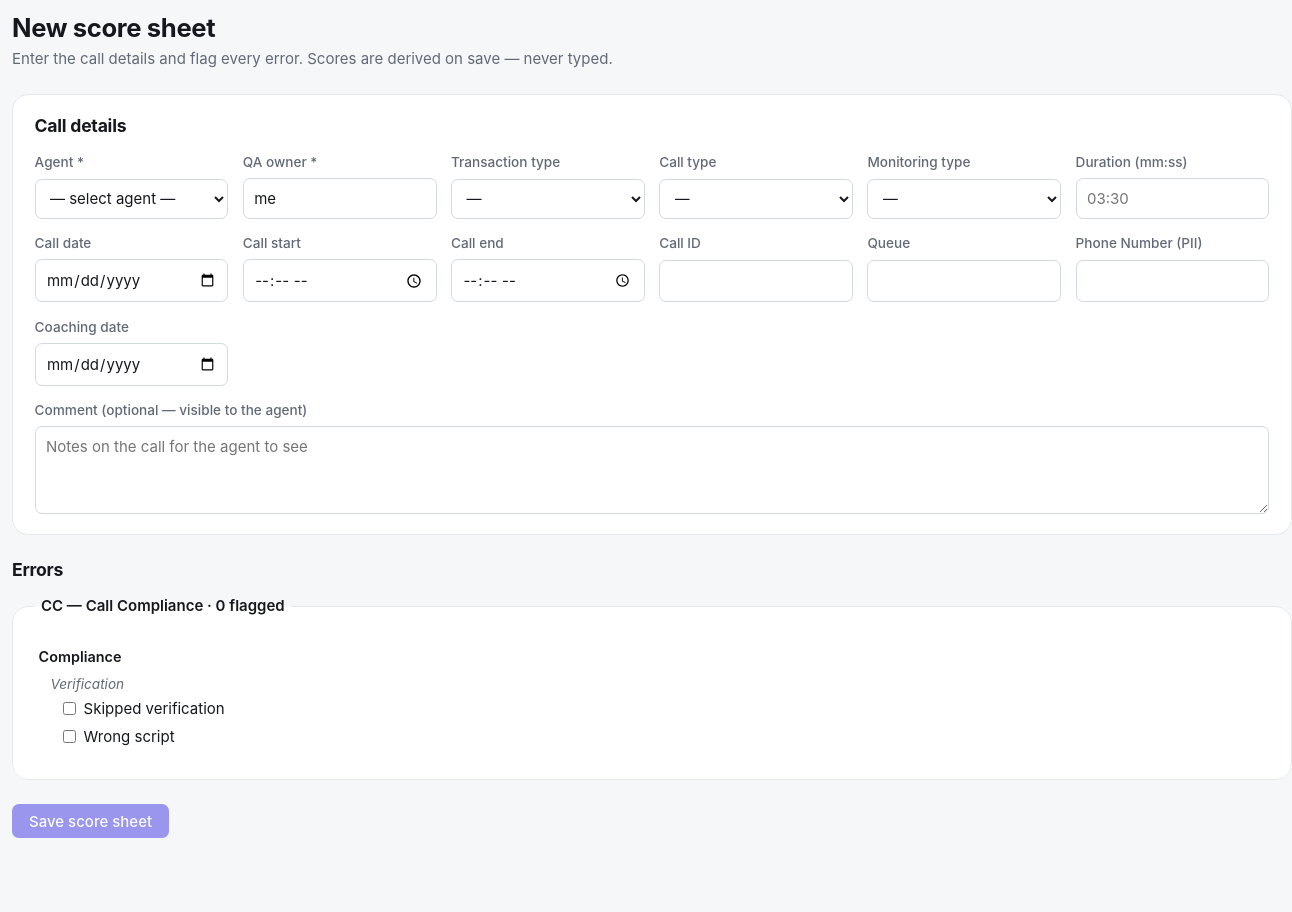
ScoreSheetForm (form → derivation boundary) › tracks the section flag count and submits only enter-only fields
Expected: the text with test id "section-1-count" reads "0", [216,596,226,616]
Click the checkbox named "reason-1000". click: (69, 709)
box: [63,702,76,715]
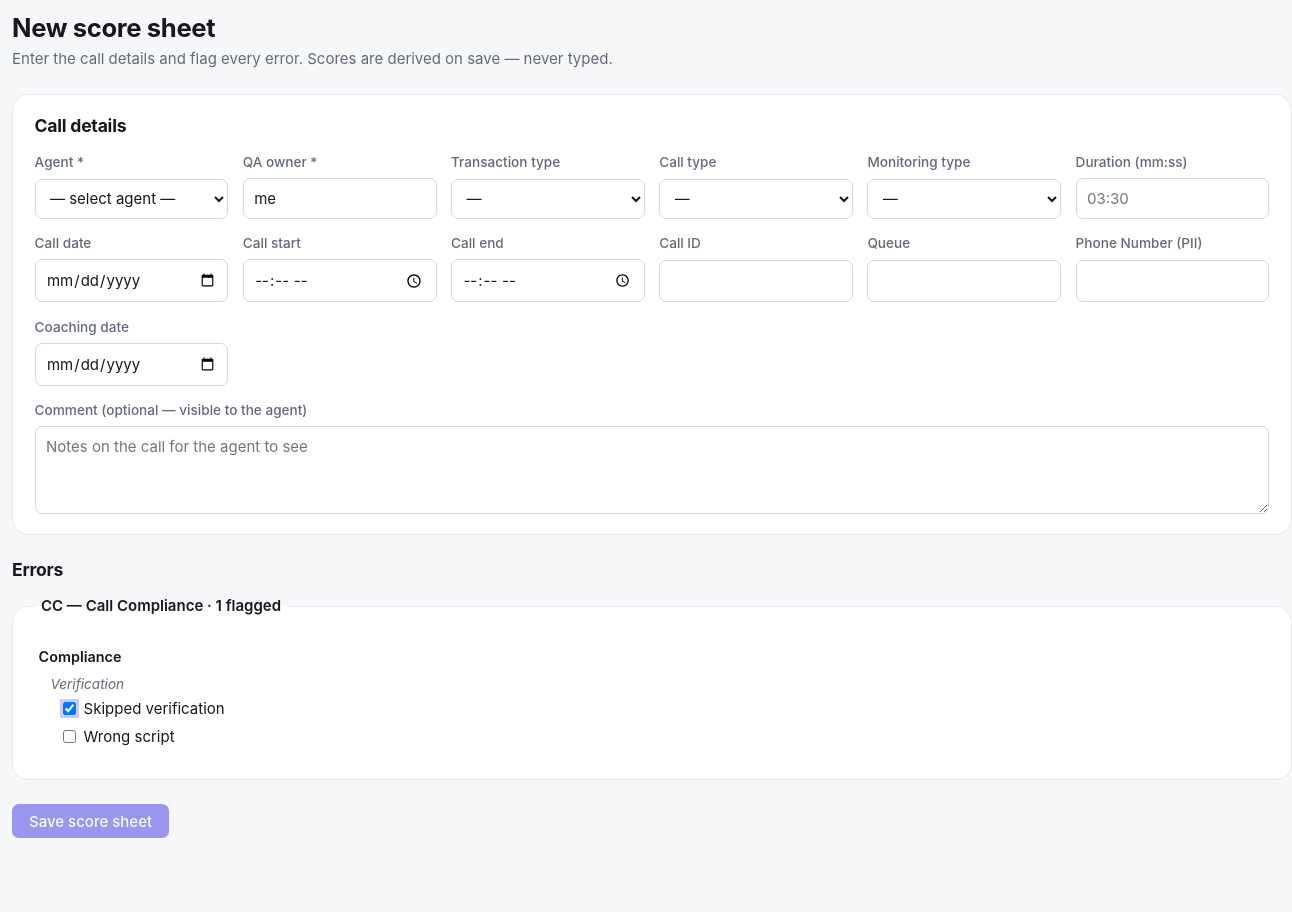
Click the checkbox named "reason-1001". click: (69, 737)
box: [63,730,76,743]
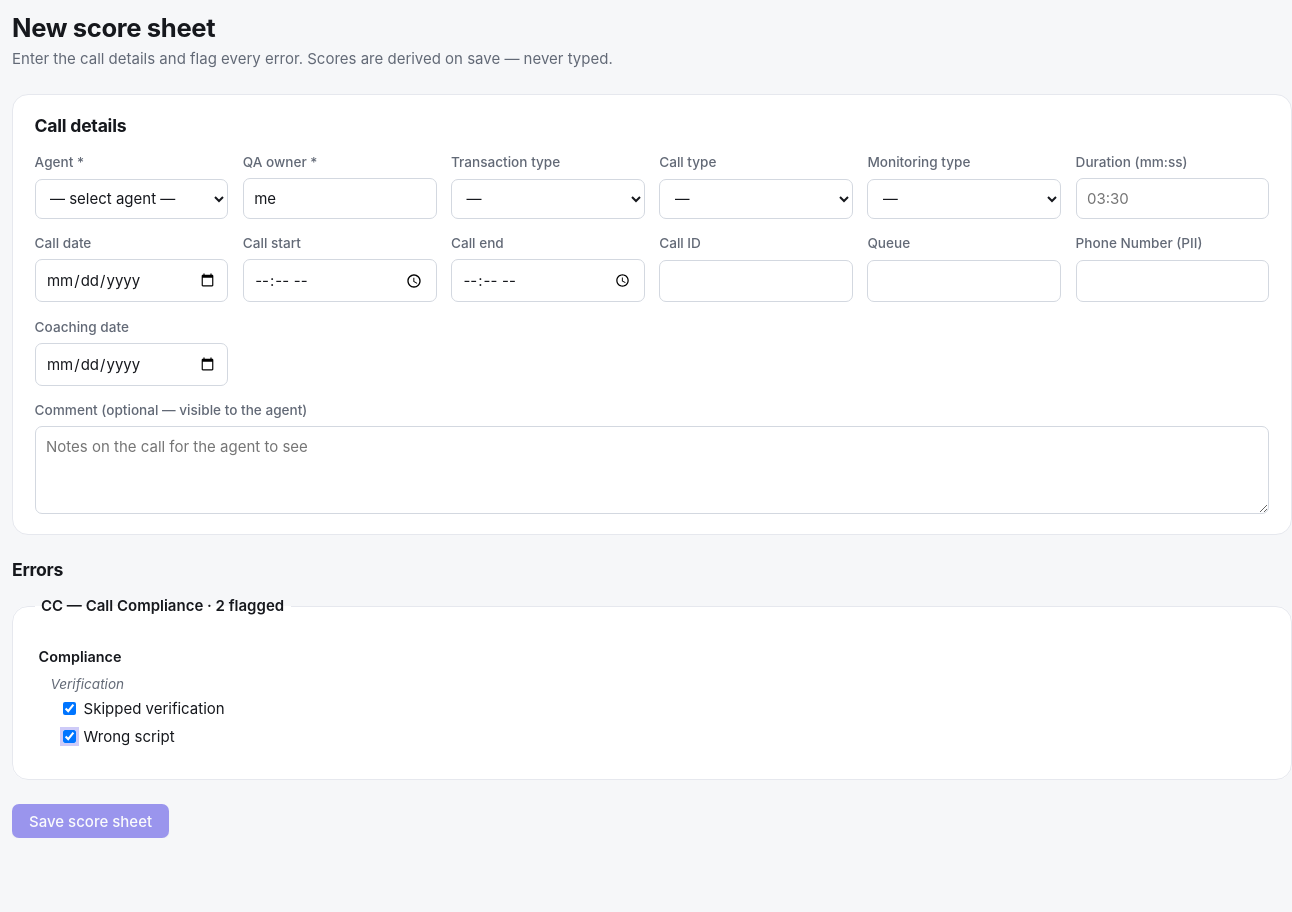
Expected: the text with test id "section-1-count" reads "2", [216,596,225,616]
// Unchecking drops the count — proves it is derived from selection, not typed.
Click the checkbox named "reason-1001". click: (69, 737)
box: [63,730,76,743]
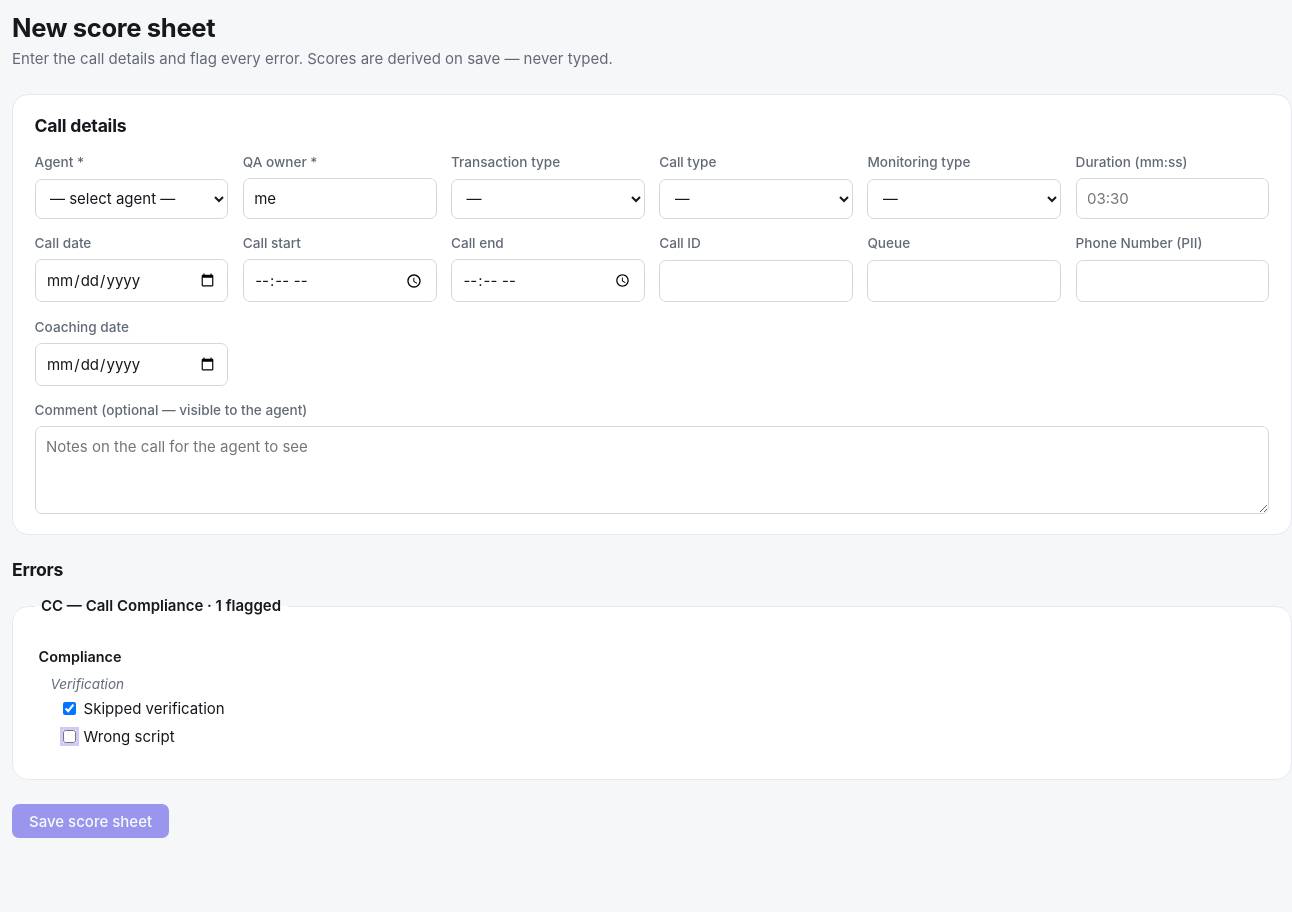
Expected: the text with test id "section-1-count" reads "1", [216,596,222,616]
Select "Test Agent (5001)" in the dropdown labelled "Agent". click: (132, 199)
box: [35,179,228,219]
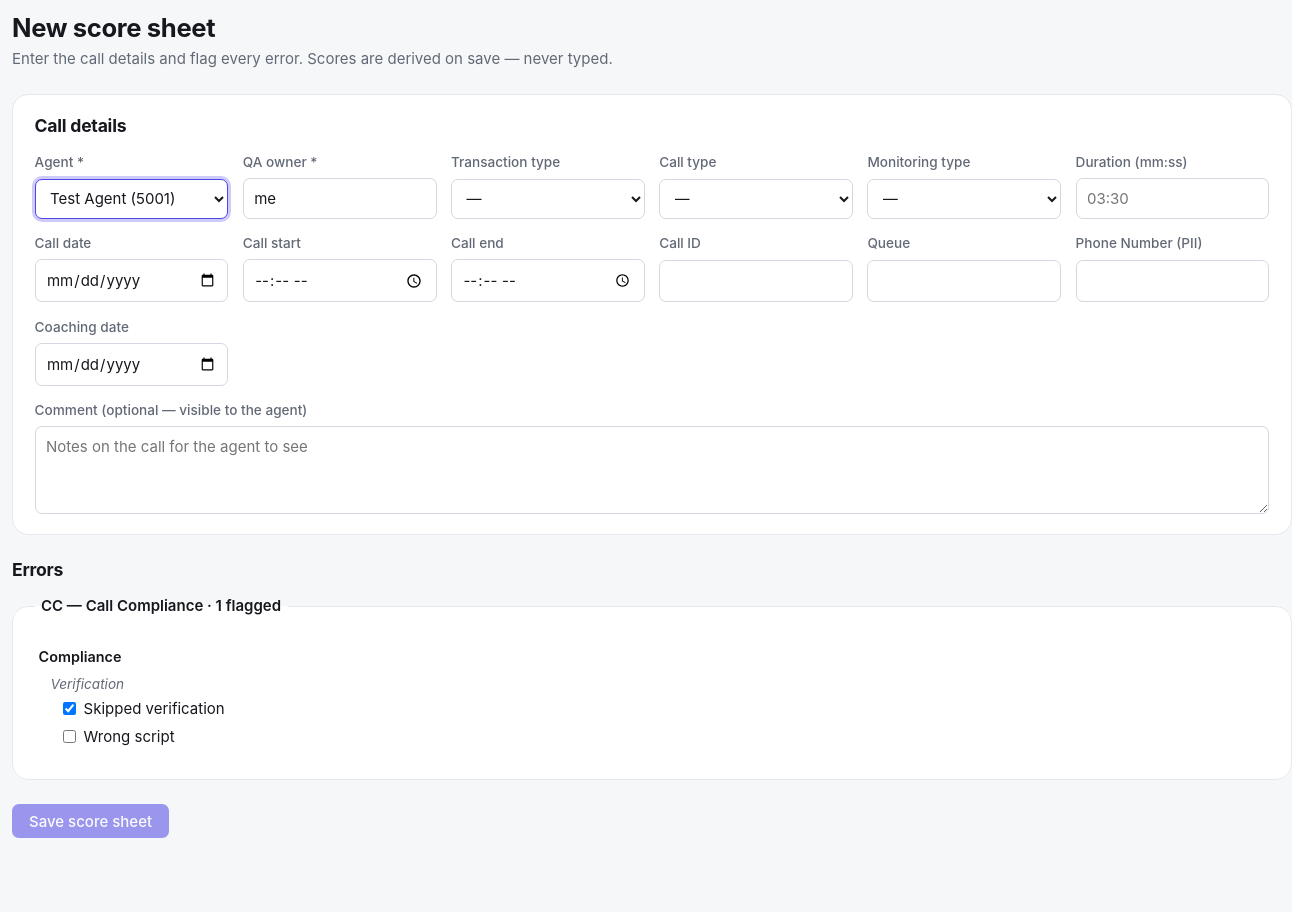
Type "2025-07-15" into the date field named "callDate". click: (132, 281)
box: [35,259,228,302]
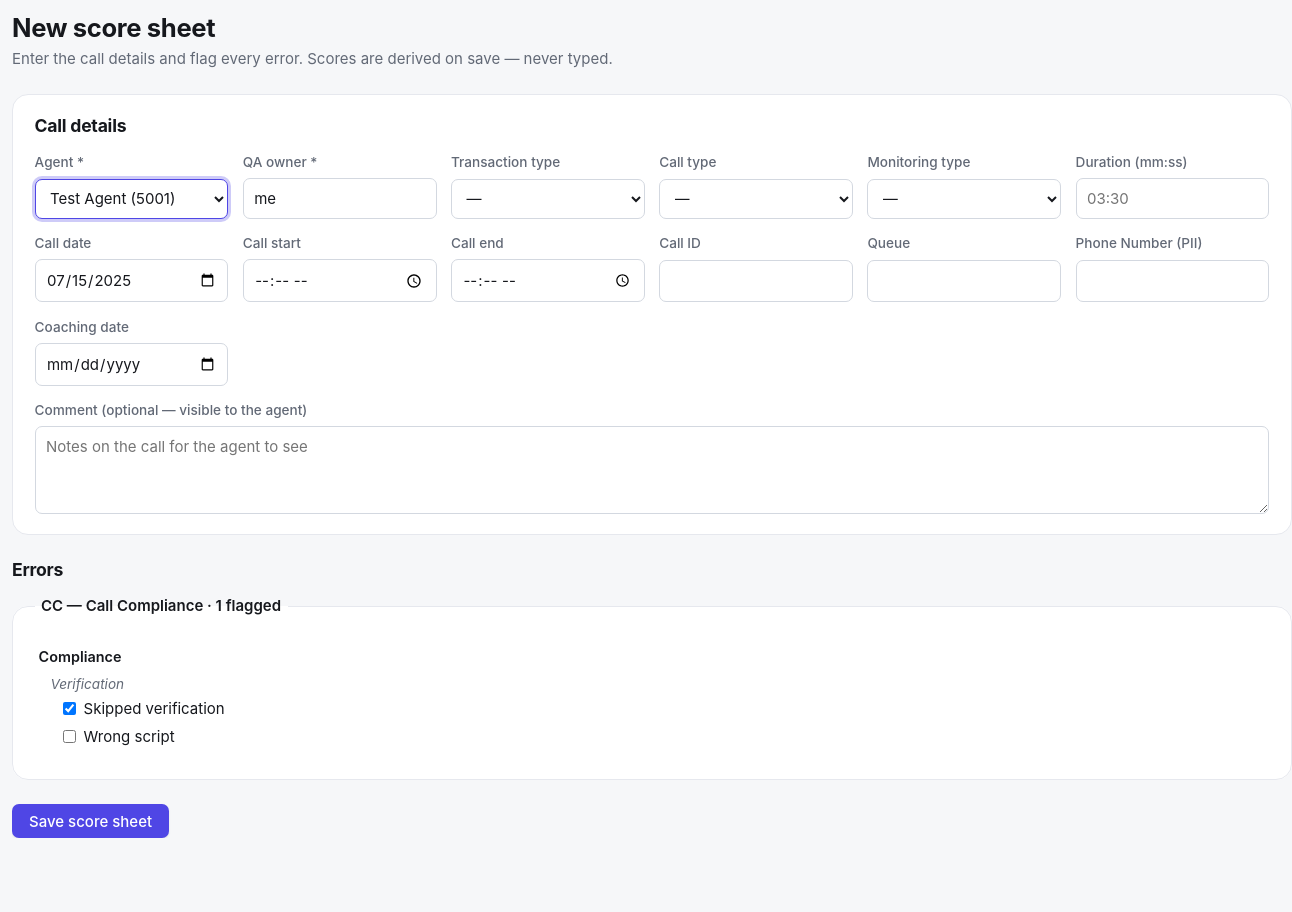
Click the button "Save score sheet". click: (91, 821)
box: [12,804,169,838]
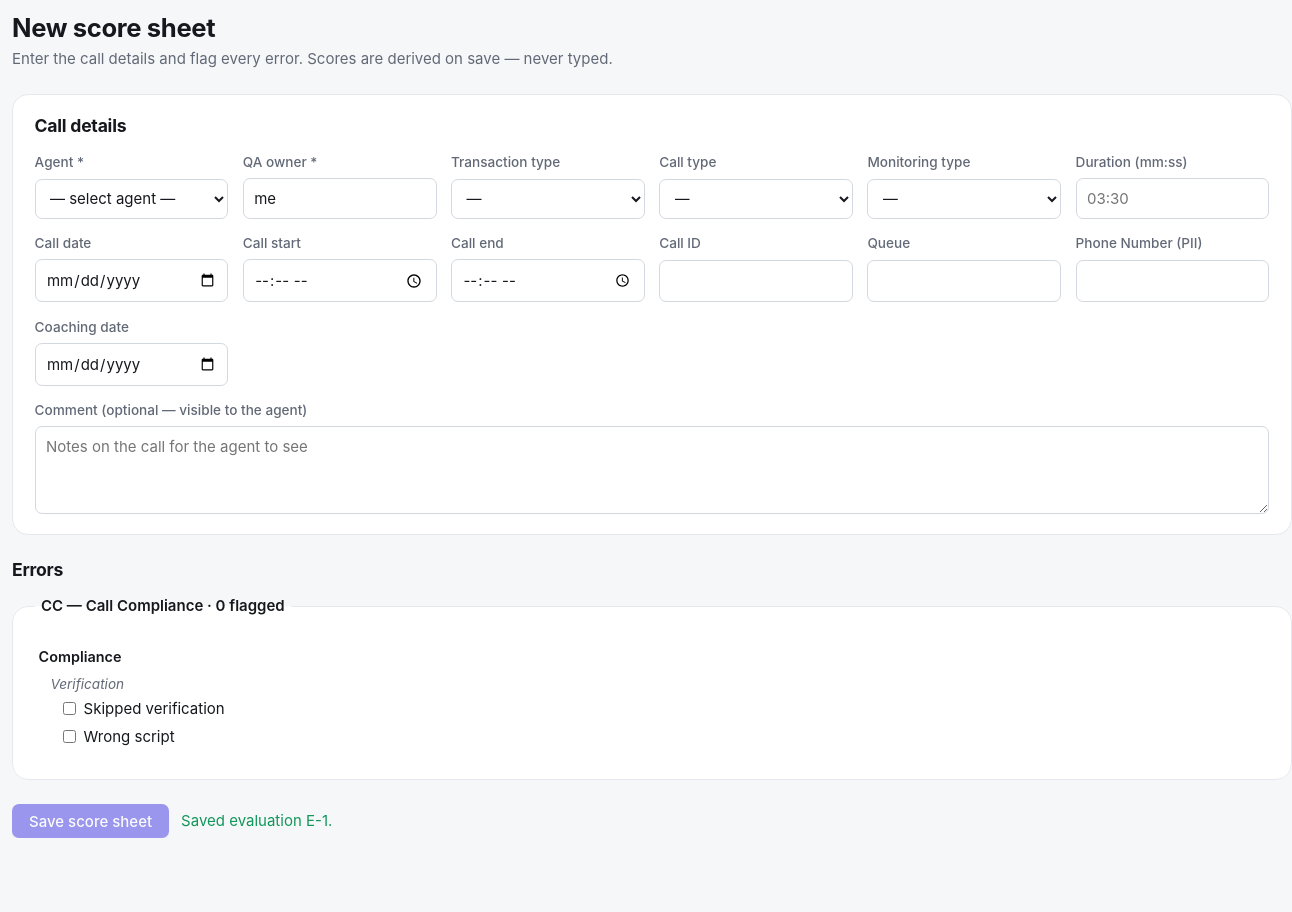
Expected: the text "Saved evaluation E-1." is shown, [181,810,332,833]
